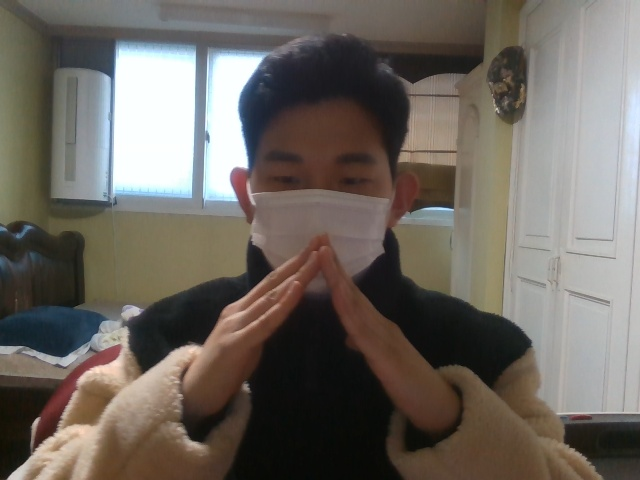HOME: (182, 231, 455, 427)
